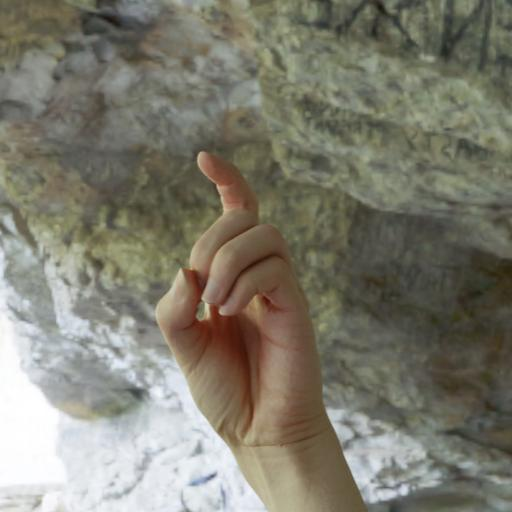X: (139, 144, 348, 476)
